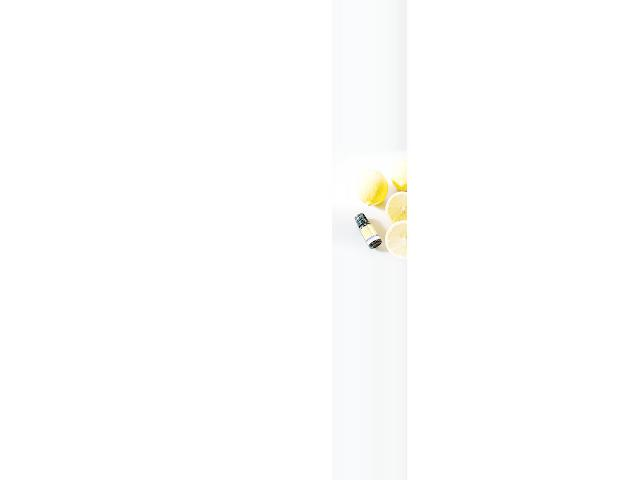lemon: (360, 169, 385, 205)
